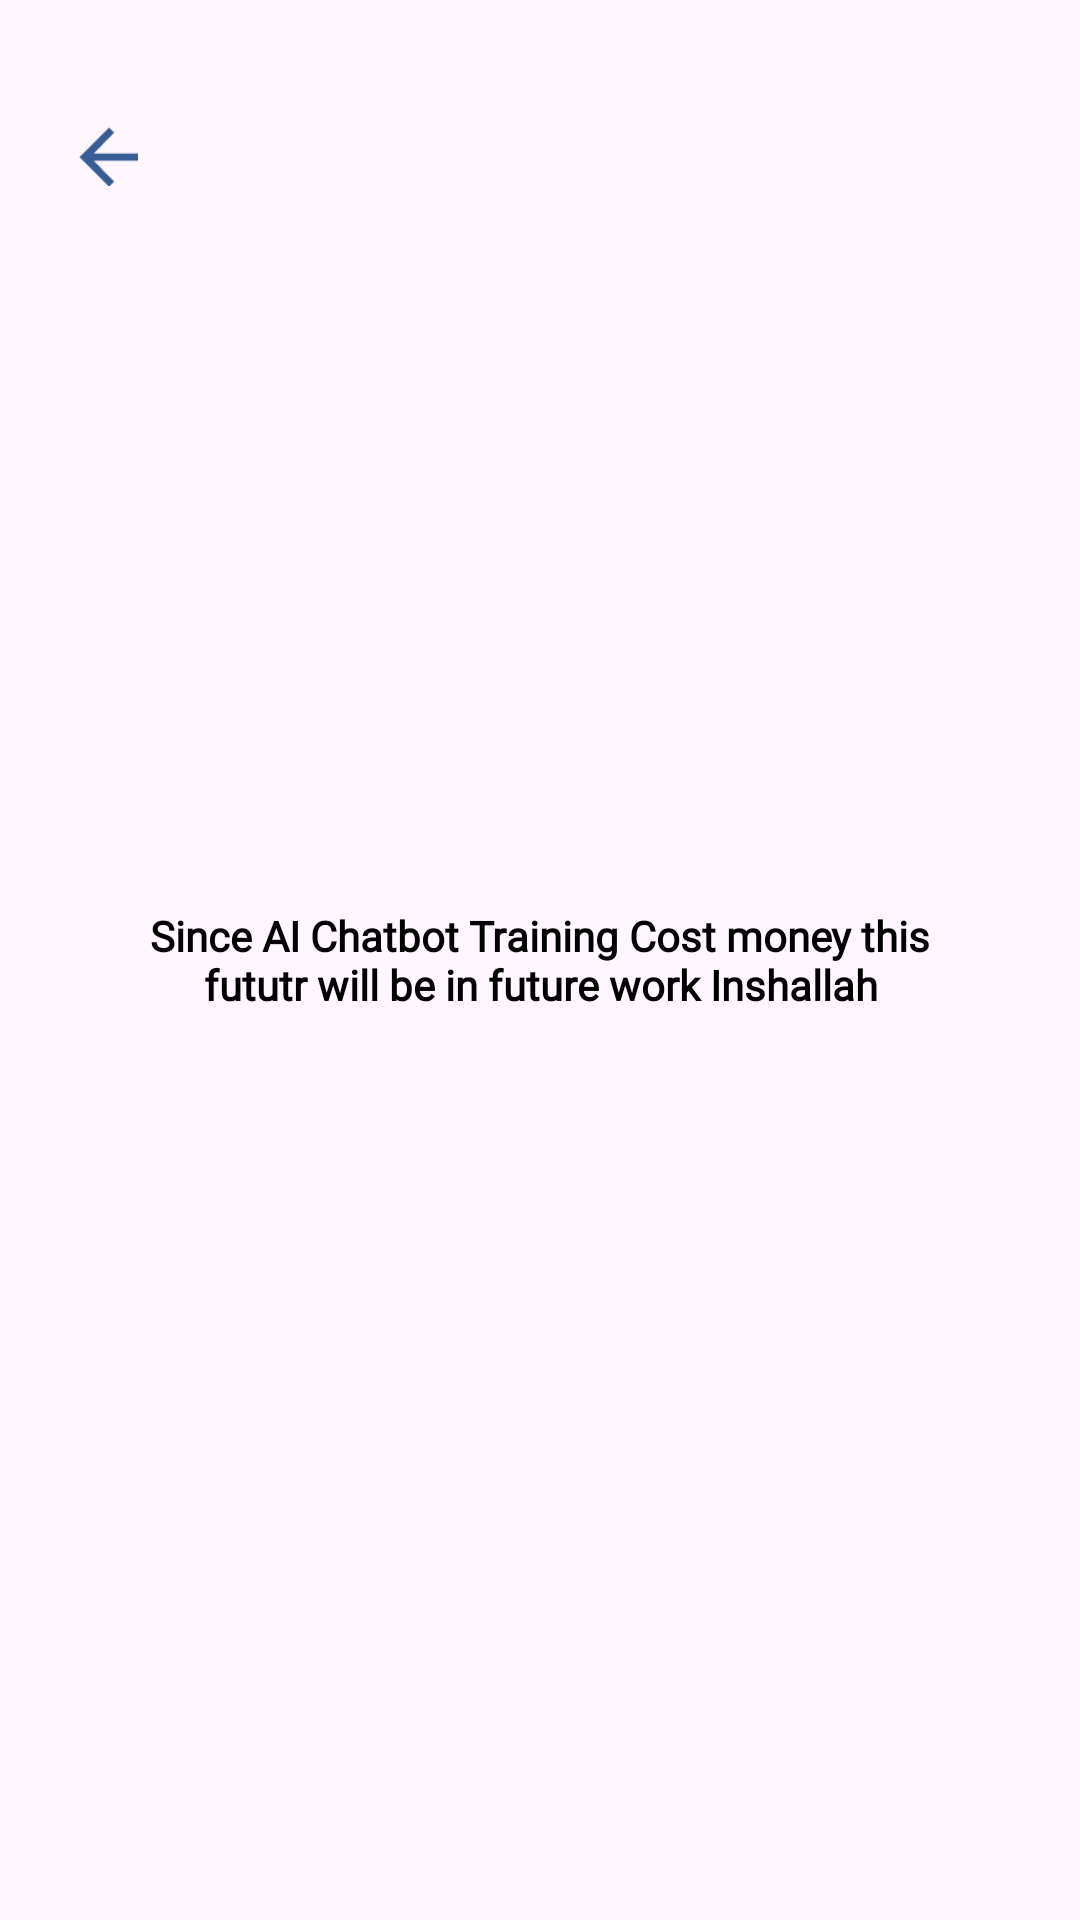

Icon bounding boxes for this 1080×1920 phone screenshot, format (x1, y1, x2, y2):
Back: (79, 127, 138, 186)
